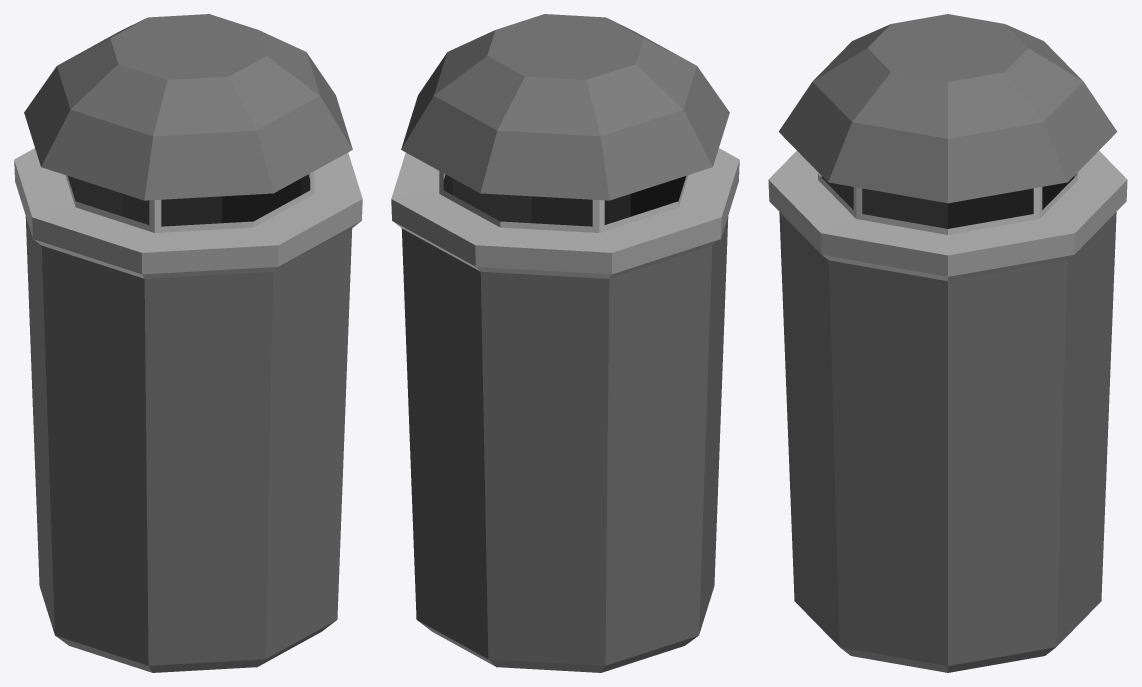
File: Trashcan.fbx
3 views of the same model, side by side, from view 1: azimuth 30°, elevation 25°; view 2: azimuth 150°, elevation 25°; view 3: azimuth 270°, elevation 25° (orthographic).
Parts seen in each view (by area): view 1: Cylinder; view 2: Cylinder; view 3: Cylinder.
Part boxes in pixels (x1=…): Cylinder: x1=14, y1=14, x2=362, y2=672; Cylinder: x1=391, y1=14, x2=739, y2=672; Cylinder: x1=768, y1=14, x2=1127, y2=672.
Size of the model in its own units: 24.49 by 42.66 by 24.49.
